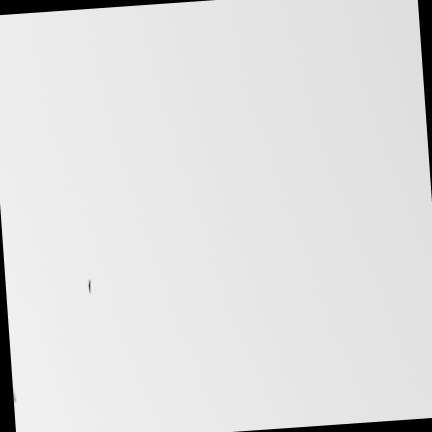Shahed: (87, 280, 89, 293)
